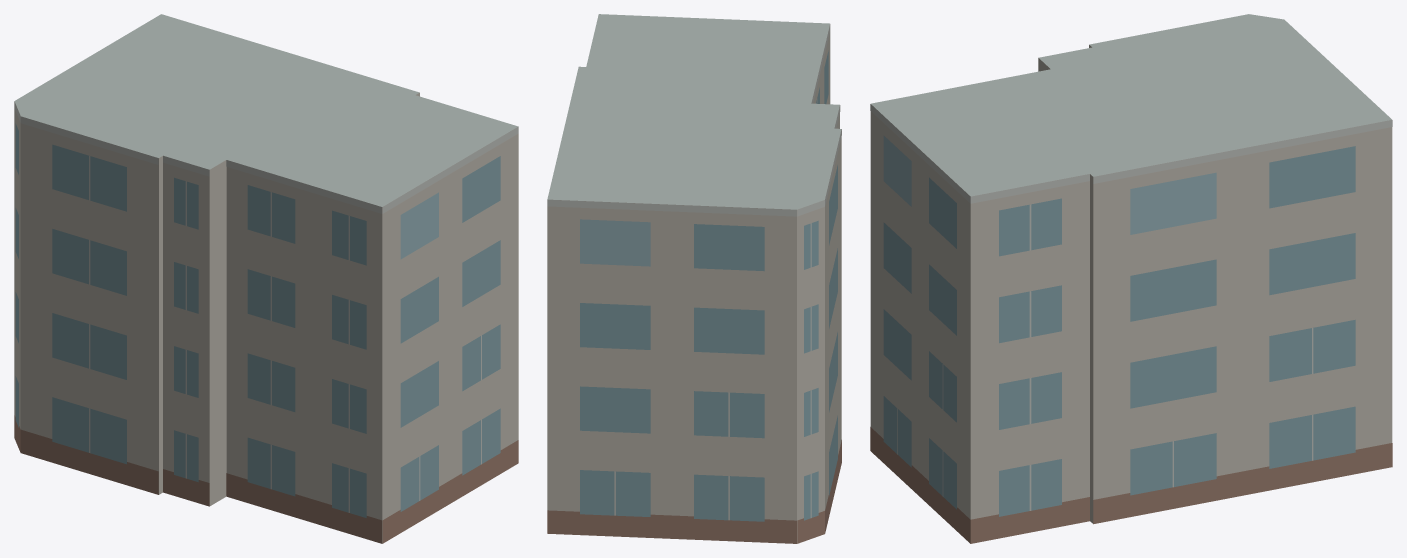
The model's file is survey-upis-32499013.glb.
3 views of the same model, side by side, from view 1: azimuth 30°, elevation 25°; view 2: azimuth 150°, elevation 25°; view 3: azimuth 270°, elevation 25° (orthographic). The views are drawn at different scales.
Parts seen in each view (by area): view 1: survey-upis-32499013.tmp; view 2: survey-upis-32499013.tmp; view 3: survey-upis-32499013.tmp.
Boxes of the visible parts, <box> form: survey-upis-32499013.tmp: <box>14,14,518,543</box>; survey-upis-32499013.tmp: <box>547,14,841,543</box>; survey-upis-32499013.tmp: <box>870,14,1392,543</box>.
Bounding box in the file's own units: 13.32 × 11.8 × 16.09.
